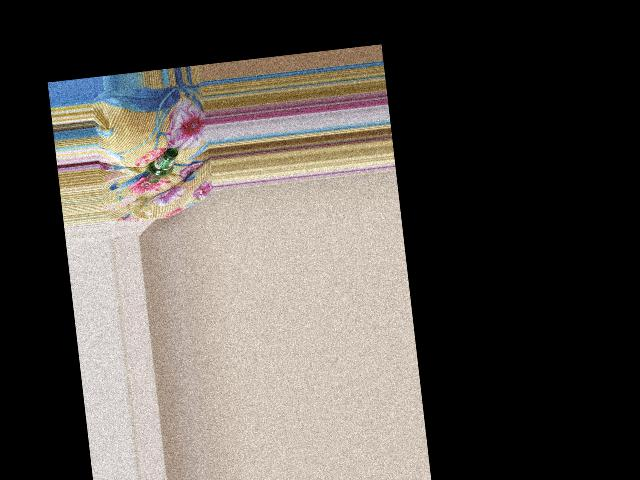beer: (141, 146, 181, 184)
